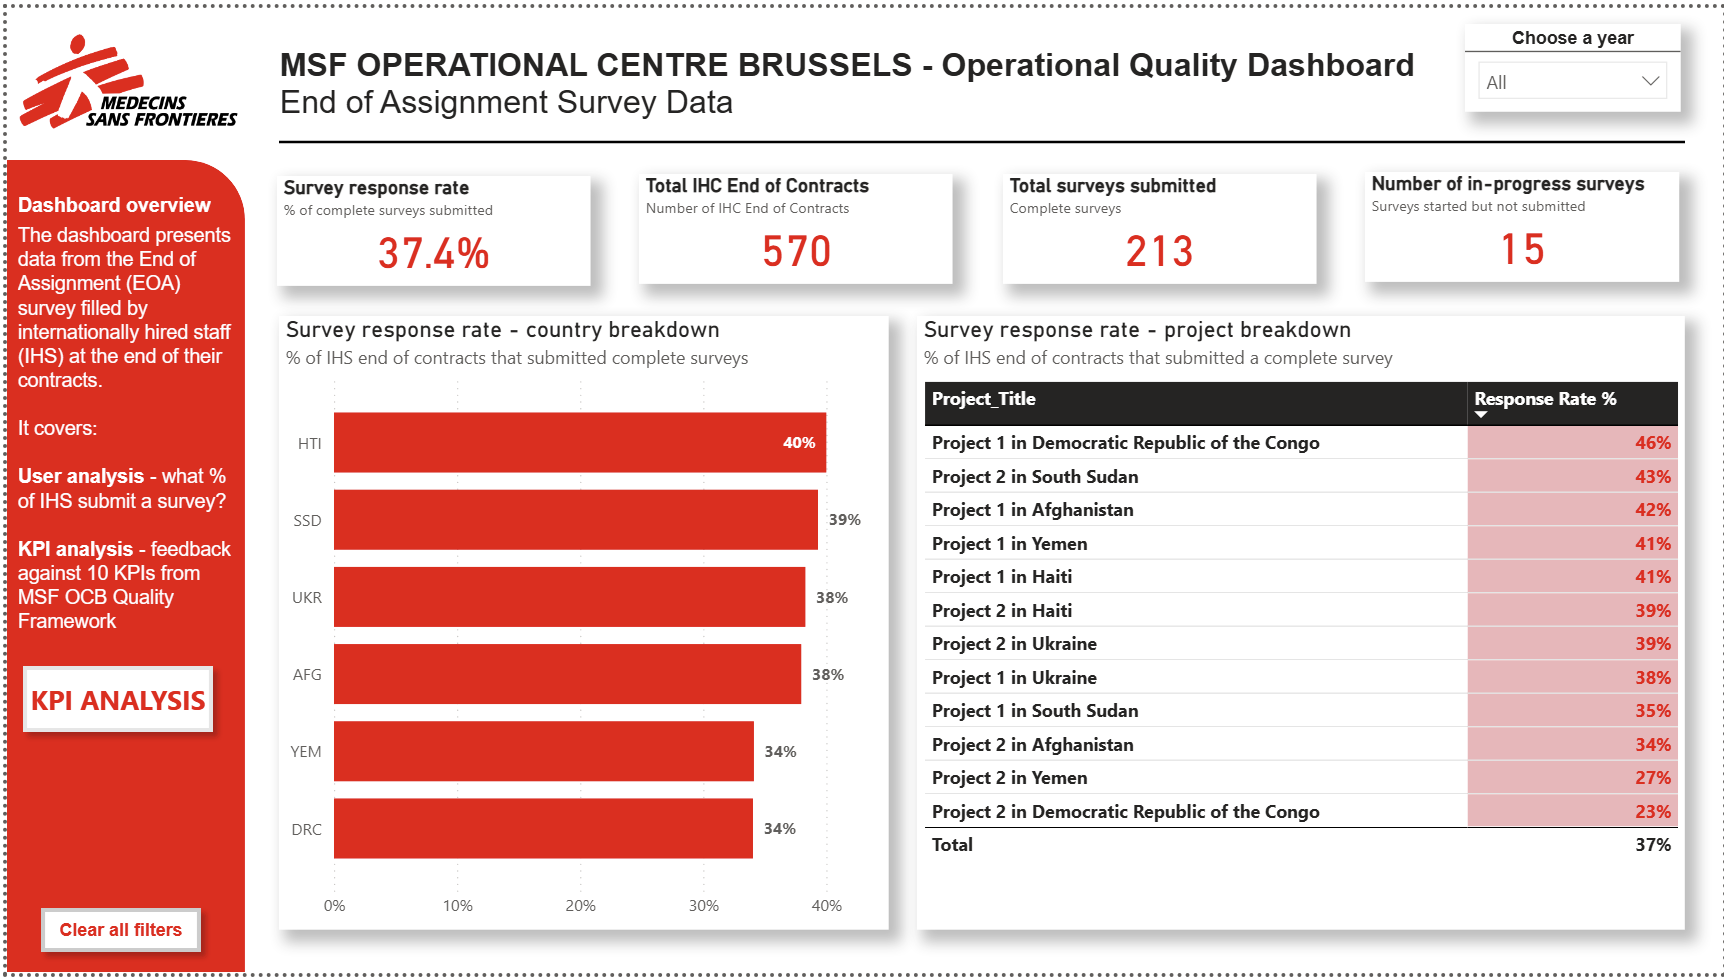

This screenshot's page, from the dashboard's own definition file:
{"tool":"powerbi","page":{"name":"Survey response","canvas":[1280,720],"ordinal":0},"visuals":[{"type":"card","title":"Survey response rate","fields":{"Values":["EndOfAssignment_5000Rows 5.Response Rate %"]},"box":[220,117.5,219,78.8],"z":0},{"type":"shape","box":[0,92.5,197.5,628.8],"z":1000},{"type":"image","box":[0,0,173.2,91.5],"z":2000},{"type":"textbox","box":[187.5,15,1071.2,63.8],"z":3000},{"type":"shape","box":[187.5,76.2,1071.2,15],"z":4000},{"type":"card","title":"Total IHC End of Contracts","fields":{"Values":["Sum(IHC_end_of_contracts.Number_of_end_of_contracts)"]},"box":[463.7,117.1,219,79.3],"z":5000},{"type":"card","title":"Number of in-progress surveys","fields":{"Values":["EndOfAssignment_5000Rows 5.In Progress Count"]},"box":[951.2,118.3,219.5,78],"z":6000},{"type":"card","title":"Total surveys submitted","fields":{"Values":["EndOfAssignment_5000Rows 5.Completed Count"]},"box":[707.5,118.3,219,78],"z":7000},{"type":"clusteredBarChart","title":"Survey response rate - country breakdown","fields":{"Y":["EndOfAssignment_5000Rows 5.Response Rate % (Country)"],"Category":["IHC_end_of_contracts.Country"]},"box":[219.5,236.6,420.7,447.6],"z":8000},{"type":"tableEx","title":"Survey response rate - project breakdown","fields":{"Values":["Project_Dim.Project_Title","EndOfAssignment_5000Rows 5.Response Rate %"]},"box":[669.5,236.6,542.7,448.8],"z":8001}]}

Visuals, with their boxes in screenshot pixels (x1, y1, x2, y2), scaled from the page's 1280x720 canvas onto the 1724x978 screenshot:
"Survey response rate" card: [x1=296, y1=160, x2=591, y2=267]
shape: [x1=0, y1=126, x2=266, y2=977]
image: [x1=0, y1=0, x2=233, y2=124]
textbox: [x1=253, y1=20, x2=1695, y2=107]
shape: [x1=253, y1=104, x2=1695, y2=124]
"Total IHC End of Contracts" card: [x1=625, y1=159, x2=920, y2=267]
"Number of in-progress surveys" card: [x1=1281, y1=161, x2=1577, y2=267]
"Total surveys submitted" card: [x1=953, y1=161, x2=1248, y2=267]
"Survey response rate - country breakdown" clusteredBarChart: [x1=296, y1=321, x2=862, y2=929]
"Survey response rate - project breakdown" tableEx: [x1=902, y1=321, x2=1633, y2=931]
